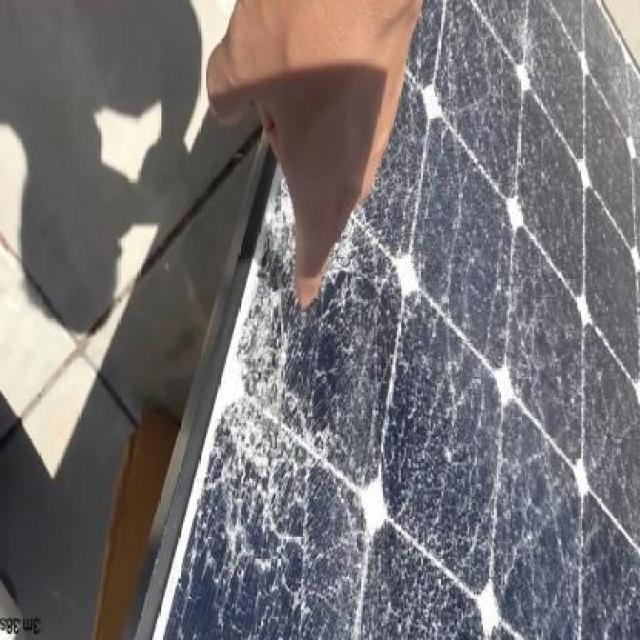cracked: (164, 0, 640, 637)
